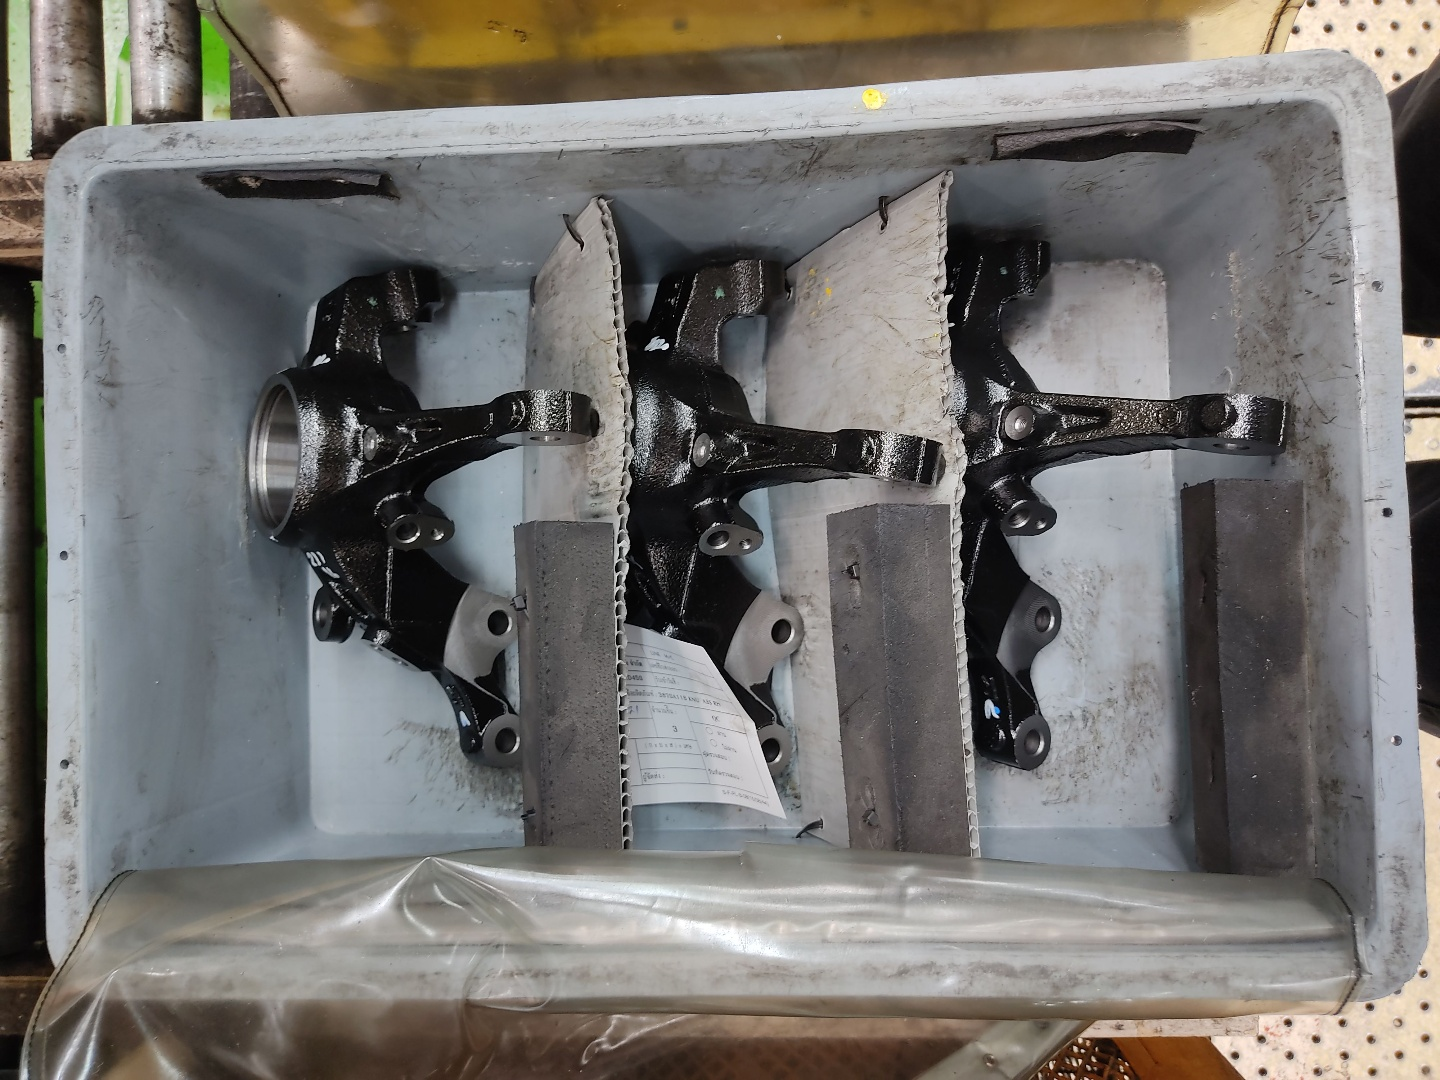abs-rh: (937, 223, 1301, 775), (239, 255, 605, 782), (607, 246, 947, 781)
